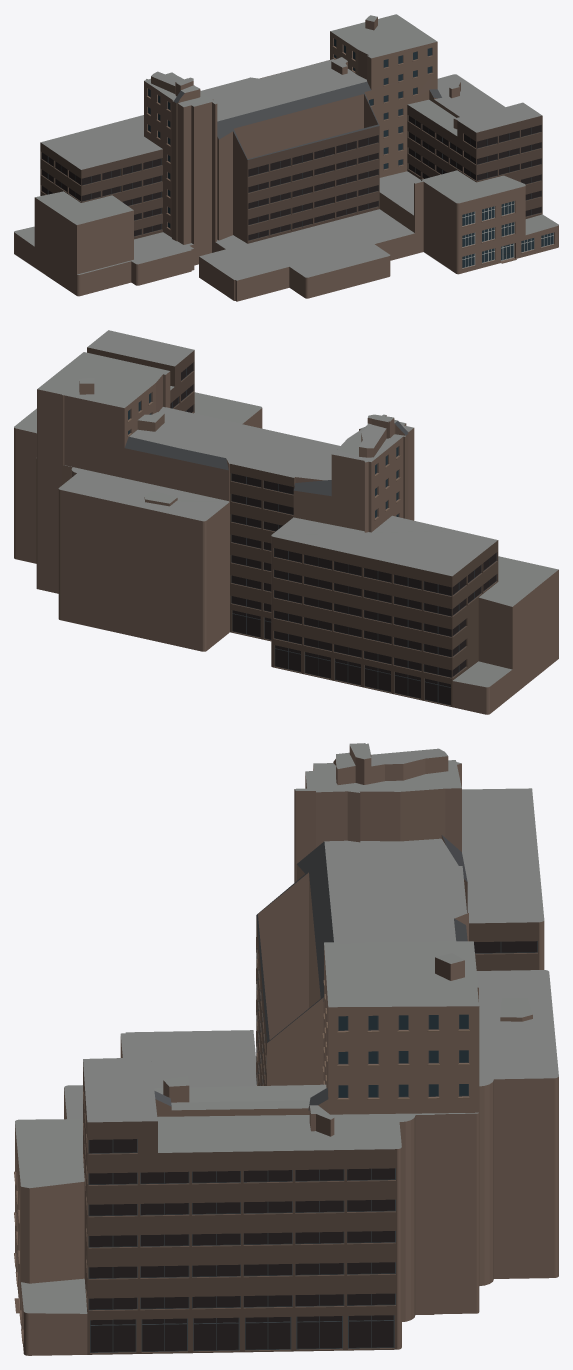
The model's file is recipe-large-molenwerf-1-066028.glb.
The picture shows the model from 3 angles, top to bottom: view 1: azimuth 30°, elevation 25°; view 2: azimuth 150°, elevation 25°; view 3: azimuth 270°, elevation 25°; orthographic projection. The views are drawn at different scales.
Parts seen in each view (by area): view 1: molenwerf-1-066028; view 2: molenwerf-1-066028; view 3: molenwerf-1-066028.
Boxes of the visible parts, <box> form: molenwerf-1-066028: <box>14,14,558,301</box>; molenwerf-1-066028: <box>14,330,558,714</box>; molenwerf-1-066028: <box>14,743,558,1355</box>.
Size of the model in its own units: 81.83 by 32.38 by 47.93.
